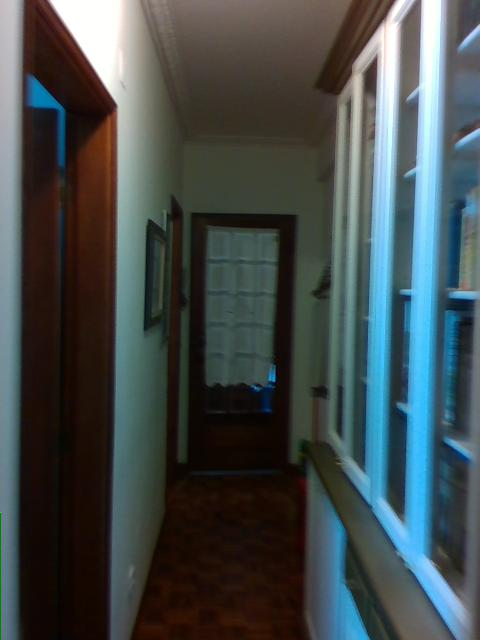door: (19, 2, 119, 640), (191, 212, 293, 473)
